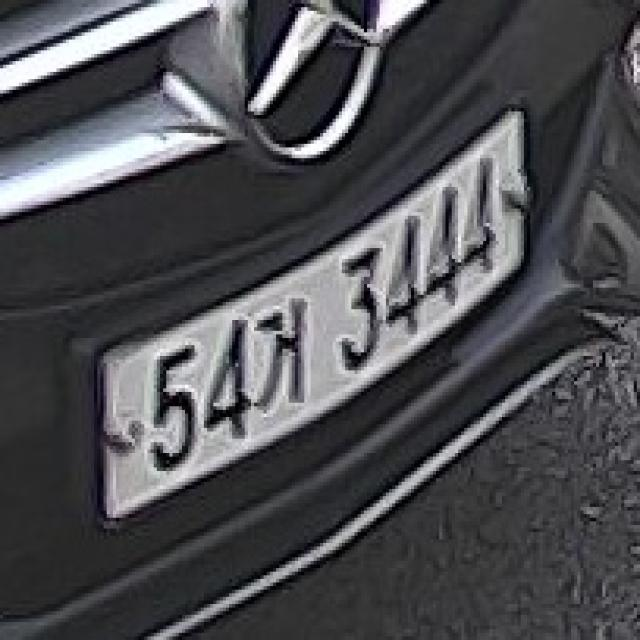3: (332, 230, 386, 392)
4: (201, 302, 254, 460), (420, 169, 470, 324), (461, 144, 505, 309), (382, 198, 423, 352)
5: (144, 324, 201, 486)
geo: (248, 284, 314, 414)
license_plate: (91, 90, 536, 550)
